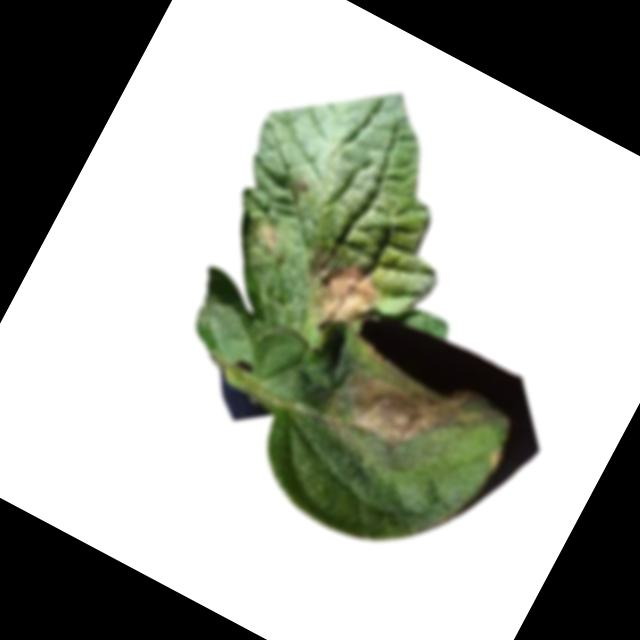Late_blight: (325, 338, 505, 493), (281, 240, 391, 352), (246, 216, 284, 255)
